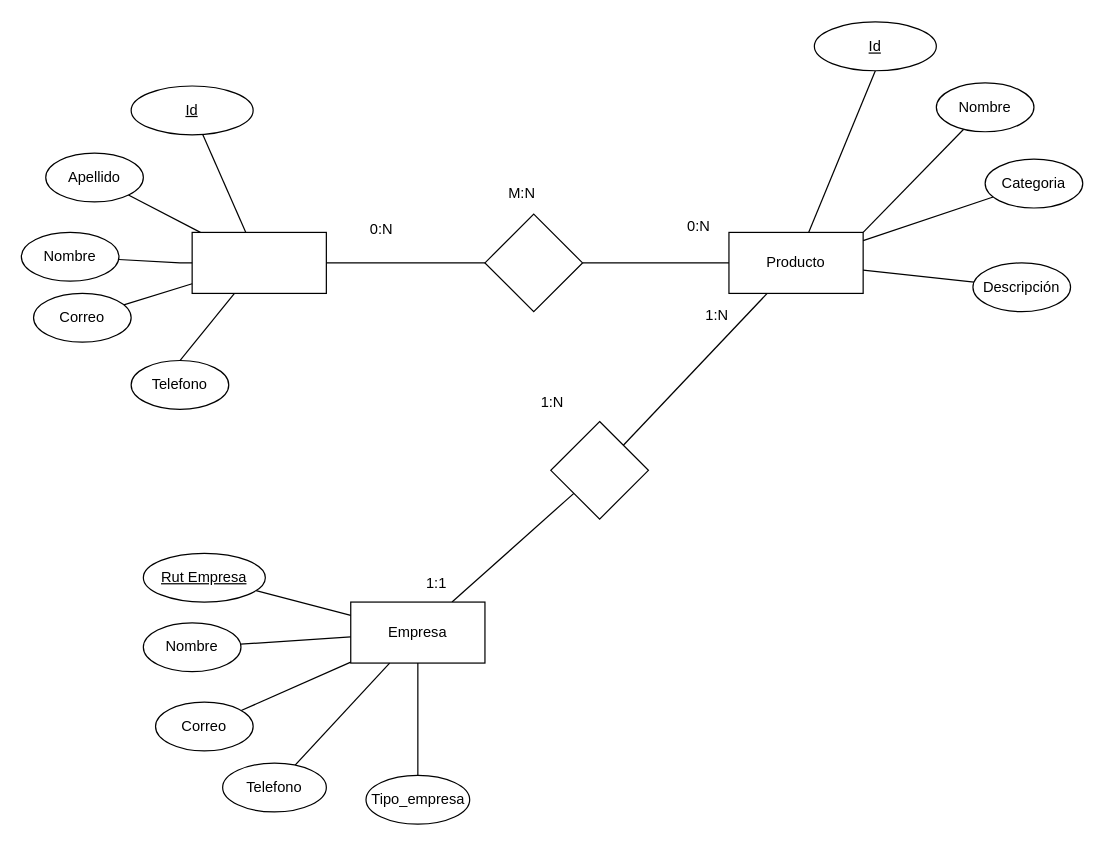
Some shapes in this 1104 by 845 pixel diagram are drawn without their labels. The centre of each missing label's shape, as x and y in pixels:
"Cliente" goes at (258,262).
"Solicita" goes at (533,262).
"Suministra" goes at (599,469).
